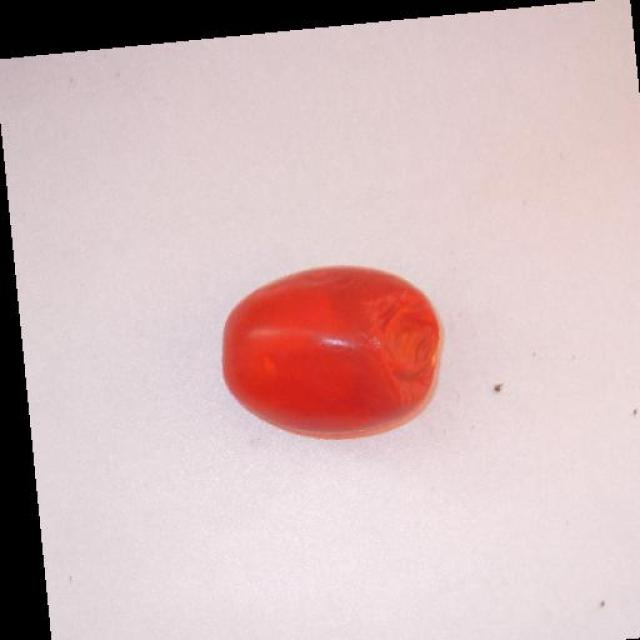Stale_tomato: (218, 252, 446, 456)
